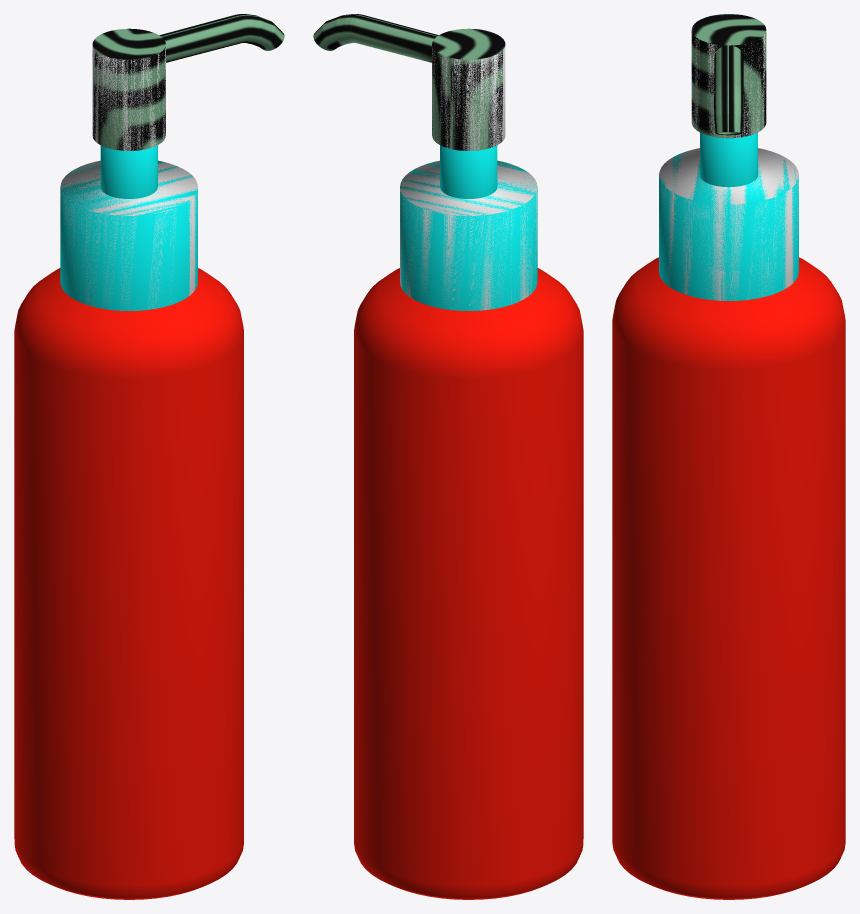
File: MediplusProduct.gltf
The picture shows the model from 3 angles, left to right: view 1: azimuth 30°, elevation 25°; view 2: azimuth 150°, elevation 25°; view 3: azimuth 270°, elevation 25°; orthographic projection.
Parts seen in each view (by area): view 1: bottle, lid_neck, tube, lid_foot.001, lid_head.001; view 2: bottle, lid_neck, tube, lid_foot.001, lid_head.001; view 3: bottle, lid_neck, tube, lid_foot.001, lid_head.001.
Boxes of the visible parts, x1,y1,x2,y2 form: bottle: [14, 268, 243, 899]; lid_neck: [60, 145, 197, 310]; tube: [92, 14, 284, 150]; lid_foot.001: [60, 161, 197, 310]; lid_head.001: [92, 45, 165, 150]; bottle: [354, 268, 583, 899]; lid_neck: [400, 145, 537, 310]; tube: [313, 14, 505, 150]; lid_foot.001: [400, 160, 537, 310]; lid_head.001: [432, 46, 505, 150]; bottle: [612, 257, 845, 899]; lid_neck: [659, 132, 798, 300]; tube: [691, 14, 766, 138]; lid_foot.001: [659, 148, 798, 300]; lid_head.001: [691, 33, 766, 138].
Size of the model in its own units: 2.55 by 7.85 by 2.
Materials: 3 (3 with a texture image).
